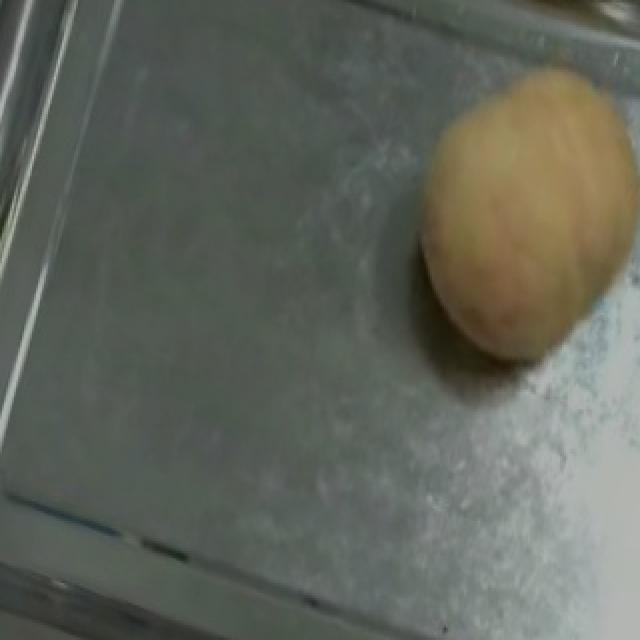Fruit: (370, 27, 640, 397)
